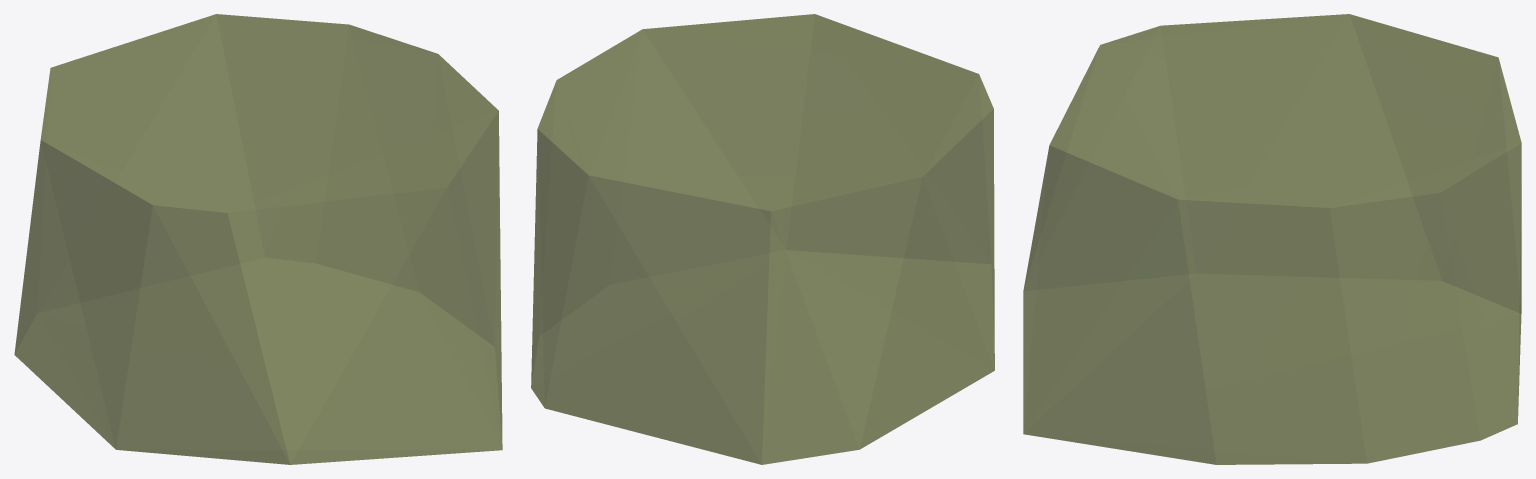
The picture shows the model from 3 angles, left to right: view 1: azimuth 30°, elevation 25°; view 2: azimuth 150°, elevation 25°; view 3: azimuth 270°, elevation 25°; orthographic projection. The views are drawn at different scales.
Parts seen in each view (by area): view 1: Shape_IndexedFaceSet.051_Shape_IndexedFaceSet.092; view 2: Shape_IndexedFaceSet.051_Shape_IndexedFaceSet.092; view 3: Shape_IndexedFaceSet.051_Shape_IndexedFaceSet.092.
Boxes of the visible parts, x1,y1,x2,y2 form: Shape_IndexedFaceSet.051_Shape_IndexedFaceSet.092: (14,14,502,464); Shape_IndexedFaceSet.051_Shape_IndexedFaceSet.092: (531,14,994,464); Shape_IndexedFaceSet.051_Shape_IndexedFaceSet.092: (1023,14,1521,464).
Size of the model in its own units: 0.1685 by 0.1108 by 0.1841.
